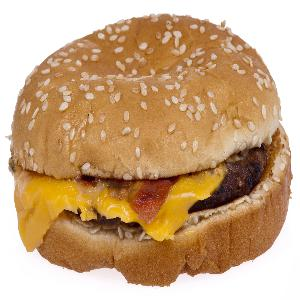cheeseburger_475cal: (6, 6, 300, 291)
